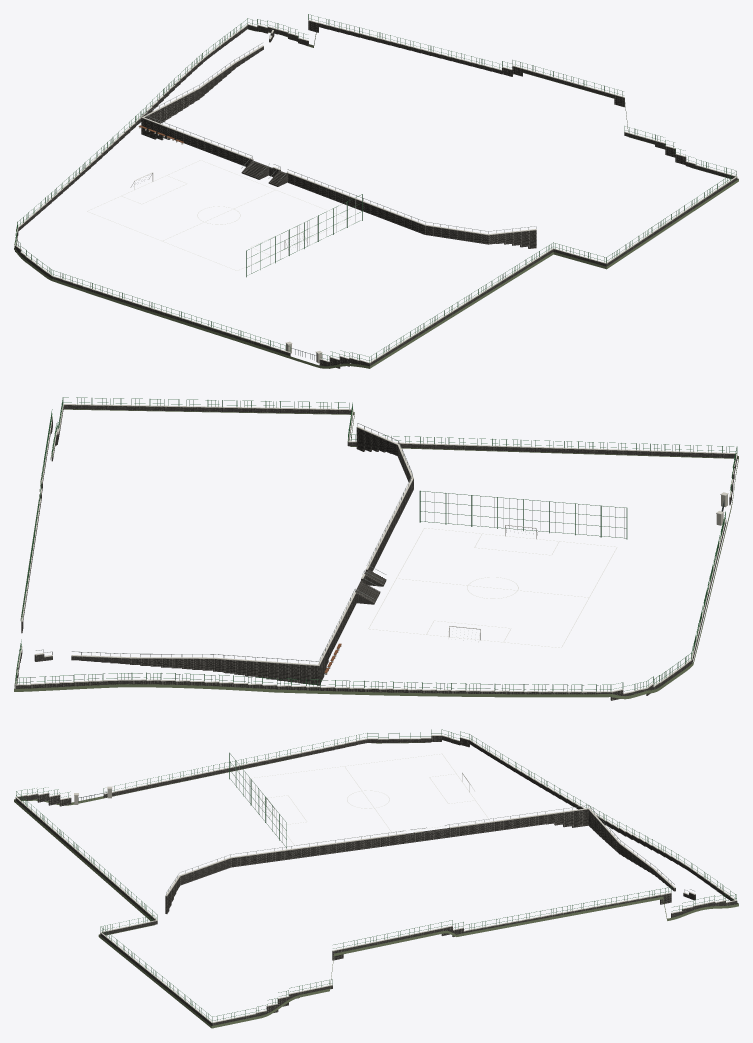
The picture shows the model from 3 angles, top to bottom: view 1: azimuth 30°, elevation 25°; view 2: azimuth 150°, elevation 25°; view 3: azimuth 270°, elevation 25°; orthographic projection. The views are drawn at different scales.
Parts seen in each view (by area): view 1: prop_boundary-fence, prop_terrace-retaining-wall, prop_ground-skirt, prop_terrace-railing, prop_hall-ballstop-fence, prop_field-lines; view 2: prop_boundary-fence, prop_terrace-retaining-wall, prop_ground-skirt, prop_terrace-railing, prop_hall-ballstop-fence, prop_field-lines; view 3: prop_boundary-fence, prop_terrace-retaining-wall, prop_ground-skirt, prop_terrace-railing, prop_hall-ballstop-fence, prop_field-lines.
Boxes of the visible parts, <box> form: prop_boundary-fence: <box>15,14,737,368</box>; prop_terrace-retaining-wall: <box>141,30,536,248</box>; prop_ground-skirt: <box>14,29,738,368</box>; prop_terrace-railing: <box>141,27,536,235</box>; prop_hall-ballstop-fence: <box>246,194,362,277</box>; prop_field-lines: <box>87,160,350,270</box>; prop_boundary-fence: <box>15,397,737,700</box>; prop_terrace-retaining-wall: <box>34,428,413,685</box>; prop_ground-skirt: <box>14,408,738,699</box>; prop_terrace-railing: <box>35,423,413,665</box>; prop_hall-ballstop-fence: <box>419,490,627,539</box>; prop_field-lines: <box>368,528,617,647</box>; prop_boundary-fence: <box>15,729,737,1025</box>; prop_terrace-retaining-wall: <box>165,809,695,913</box>; prop_ground-skirt: <box>14,742,738,1028</box>; prop_terrace-railing: <box>165,805,695,896</box>; prop_hall-ballstop-fence: <box>229,752,286,848</box>; prop_field-lines: <box>247,753,489,845</box>.
Size of the model in its own units: 148 by 16.94 by 154.
Materials: 10 (1 with a texture image).
